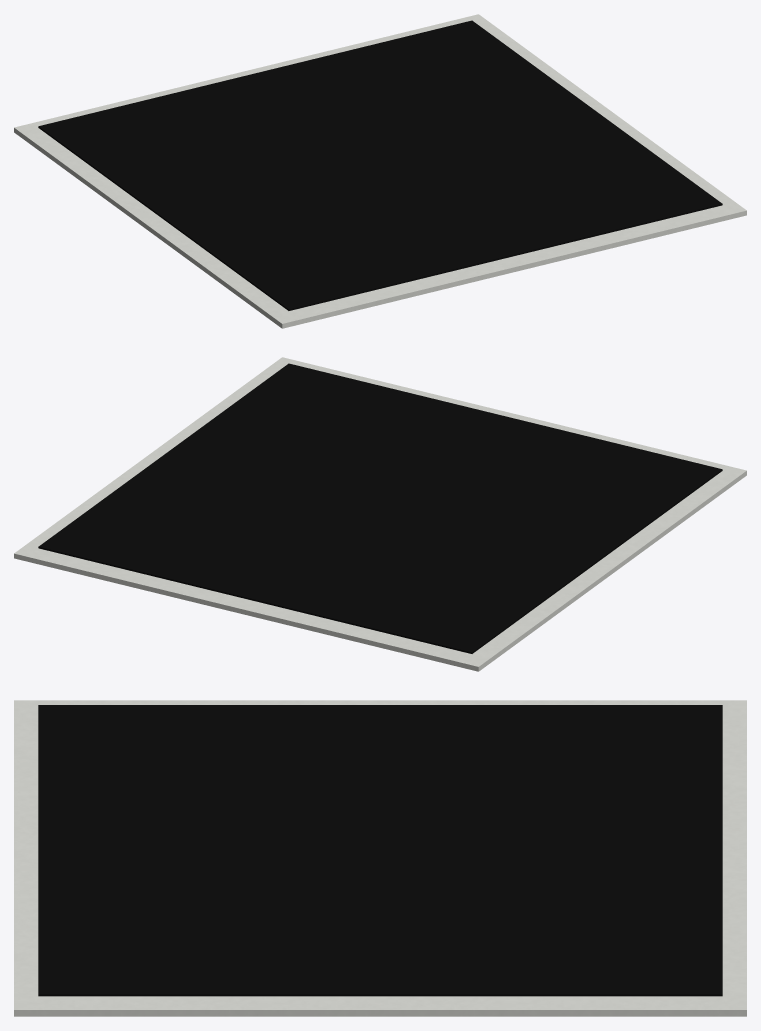
The model's file is CeilingDiffuser.obj.
3 views of the same model, one above another, from view 1: azimuth 30°, elevation 25°; view 2: azimuth 150°, elevation 25°; view 3: azimuth 270°, elevation 25° (orthographic). The views are drawn at different scales.
Parts seen in each view (by area): view 1: Duct, Diffuser; view 2: Duct, Diffuser; view 3: Duct, Diffuser.
Part boxes in pixels (left/top/right/bottom): Duct: left=38, top=20, right=722, bottom=310; Diffuser: left=14, top=14, right=746, bottom=328; Duct: left=38, top=363, right=722, bottom=653; Diffuser: left=14, top=357, right=746, bottom=671; Duct: left=38, top=705, right=722, bottom=996; Diffuser: left=14, top=700, right=746, bottom=1016.
Size of the model in its own units: 0.6 by 0.067 by 0.6.
Materials: 2 (1 with a texture image).
